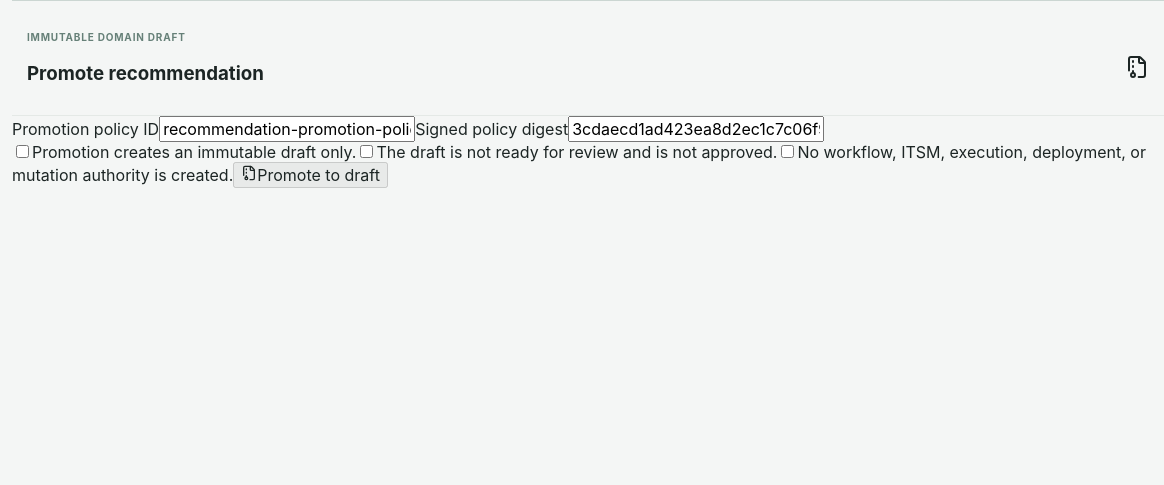
Test: ProtectedRecommendationPresentationPanel › promotes only an acknowledged presentation into a non-authoritative draft
Expected: the button "Promote to draft" is disabled, [233, 162, 388, 188]
Step 1. Click the checkbox labelled "Promotion creates an immutable draft only." → (22, 152), box [16, 145, 29, 158]
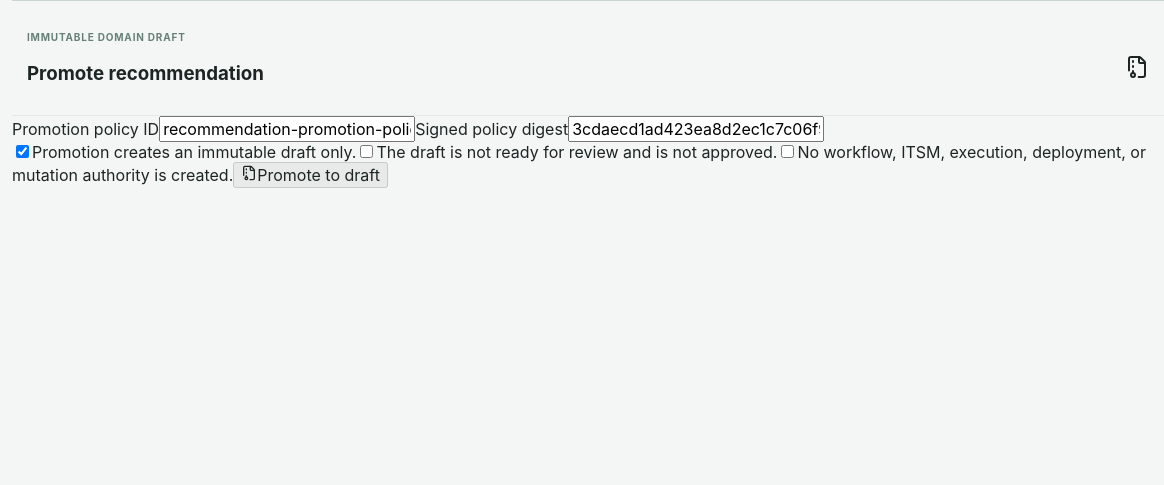
Step 2. Click the checkbox labelled "The draft is not ready for review and is not approved." → (367, 152), box [360, 145, 374, 158]
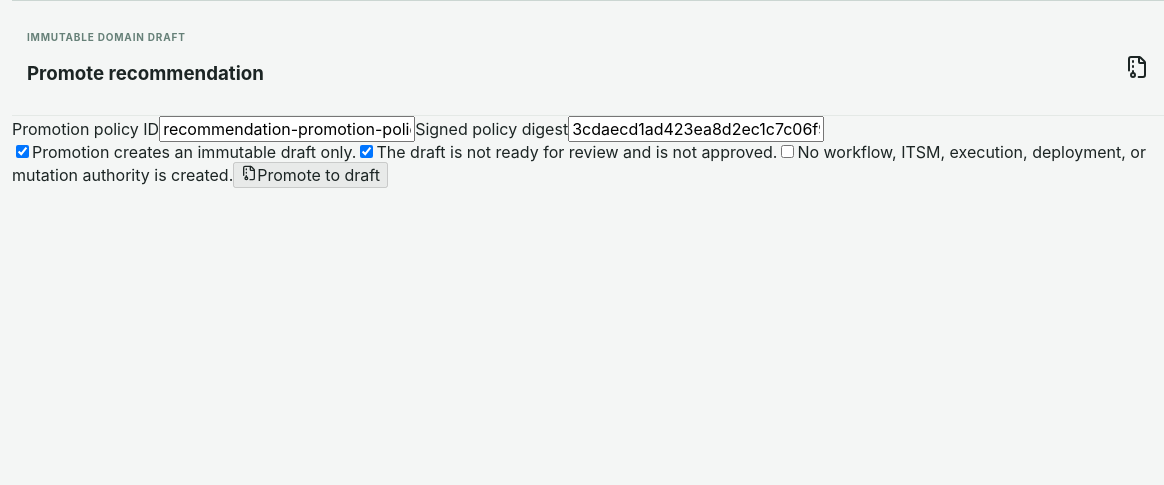
Step 3. Click the checkbox labelled "No workflow, ITSM, execution, deployment, or mutation authority is created." → (788, 152), box [781, 145, 794, 158]
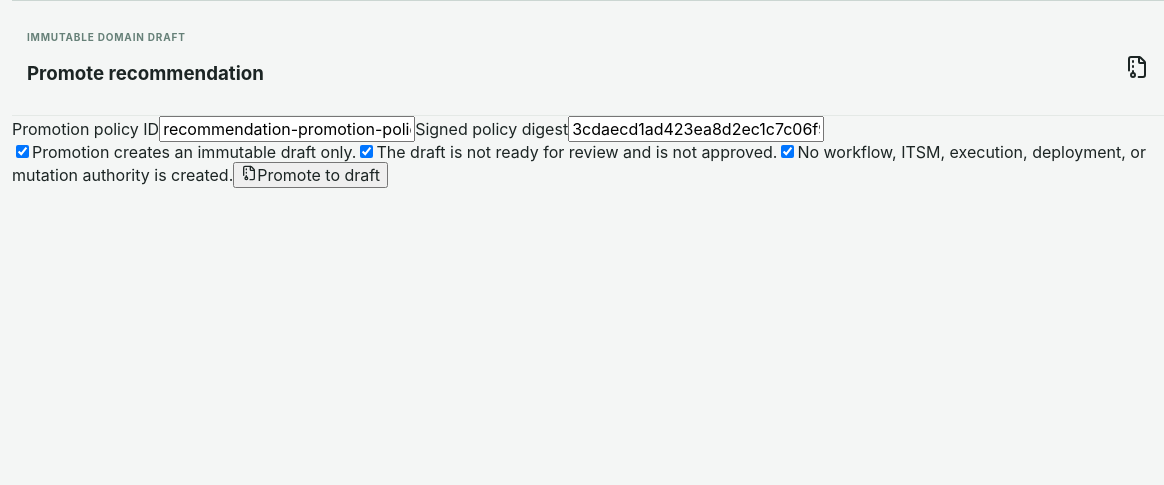
Now the button "Promote to draft" is enabled
Step 4. Click the button "Promote to draft" → (311, 175), box [233, 162, 388, 188]
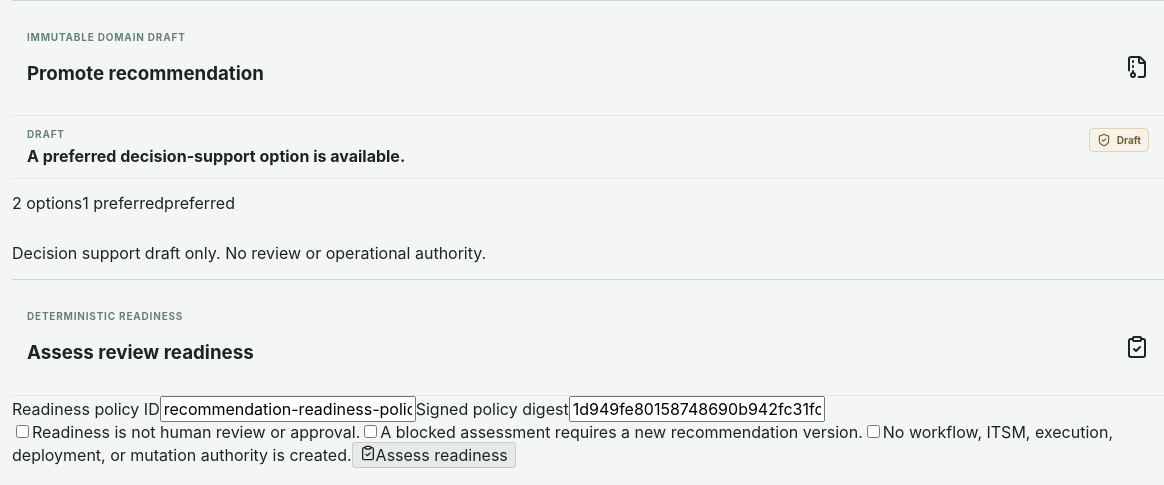
Expected: the text "draft" is shown, [1089, 128, 1149, 152]
Now the element with test id "recommendation-promotion-result" is shown, box [12, 116, 1163, 279]
